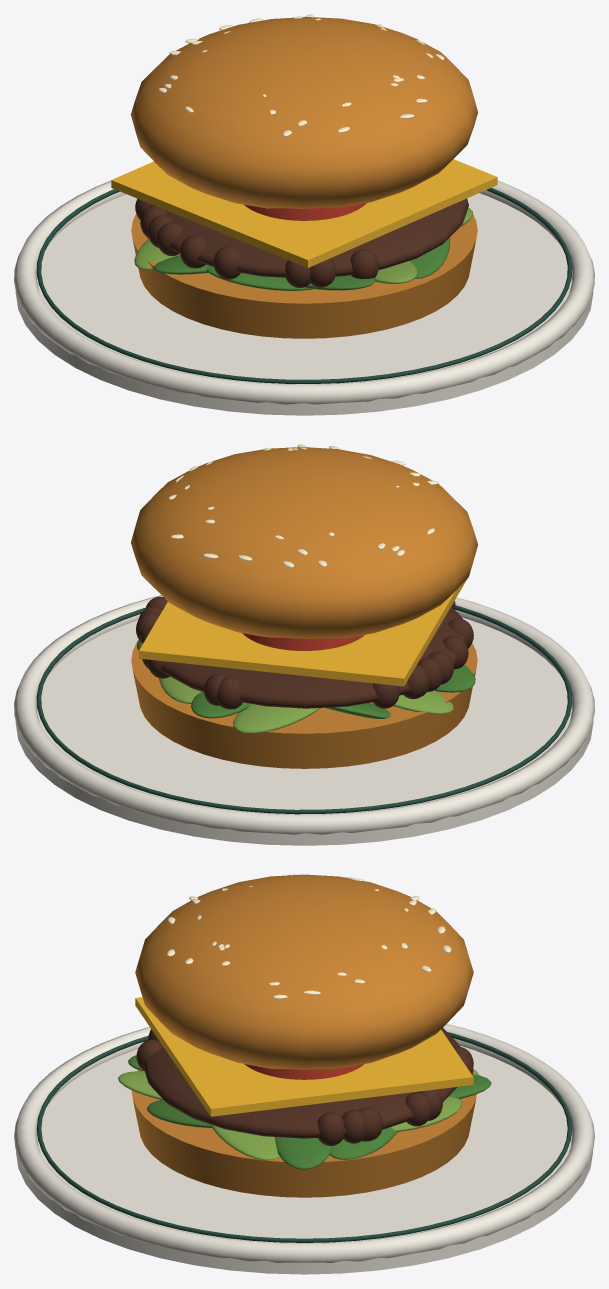
The model's file is burger-small.glb.
3 views of the same model, one above another, from view 1: azimuth 30°, elevation 25°; view 2: azimuth 150°, elevation 25°; view 3: azimuth 270°, elevation 25° (orthographic).
Visible parts, largest first — view 1: Morsel original burger small, brioche crown, bottom bun, beef patty, leaf (×6); view 2: Morsel original burger small, brioche crown, bottom bun, beef patty, leaf (×6); view 3: Morsel original burger small, brioche crown, bottom bun, beef patty, leaf (×7).
Boxes of the visible parts, x1,y1,x2,y2 form: Morsel original burger small: (14, 159, 594, 415); brioche crown: (130, 17, 477, 208); bottom bun: (131, 214, 477, 338); beef patty: (142, 198, 468, 277); leaf (×6): (134, 238, 450, 290); Morsel original burger small: (14, 574, 594, 845); brioche crown: (131, 447, 477, 638); bottom bun: (131, 640, 477, 768); beef patty: (140, 606, 467, 708); leaf (×6): (159, 665, 475, 733); Morsel original burger small: (14, 997, 594, 1274); brioche crown: (135, 874, 473, 1069); bottom bun: (131, 1070, 476, 1197); beef patty: (143, 1028, 460, 1138); leaf (×7): (118, 1071, 491, 1169).
Size of the model in its own units: 3.02 by 1.4 by 3.02.
